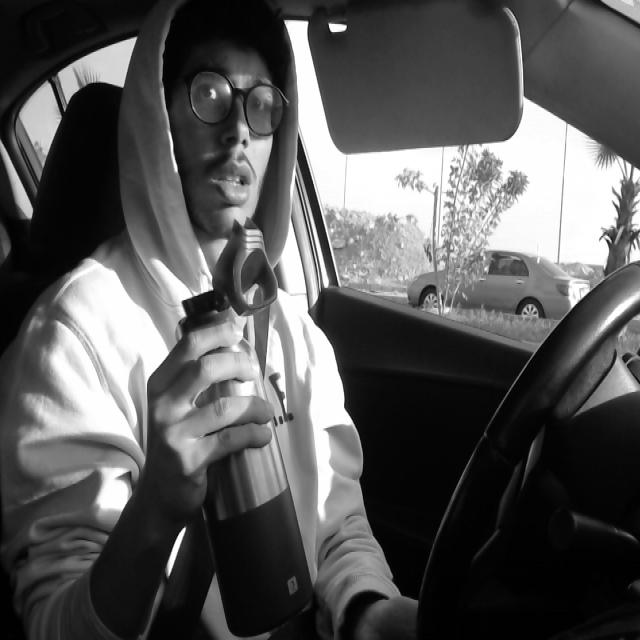drinking: (174, 208, 314, 638)
